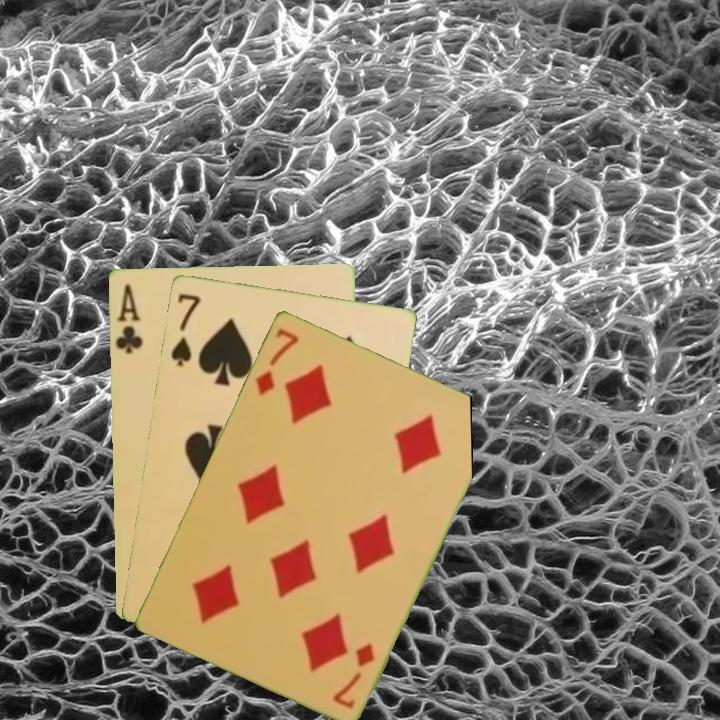7d: (251, 324, 301, 398), (329, 639, 377, 711)
7s: (167, 290, 203, 369)
Ac: (111, 280, 144, 356)
